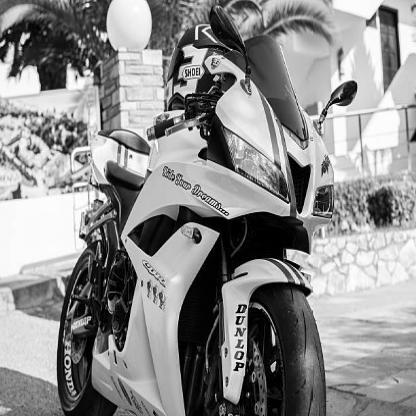Motorcycle: (54, 19, 348, 415)
